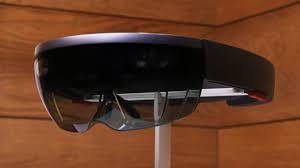hololens: (34, 29, 283, 135)
